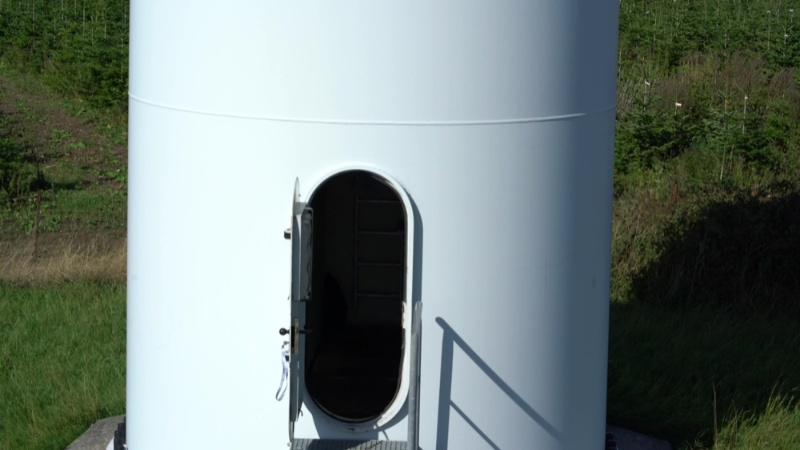weldseam: (123, 84, 622, 132)
